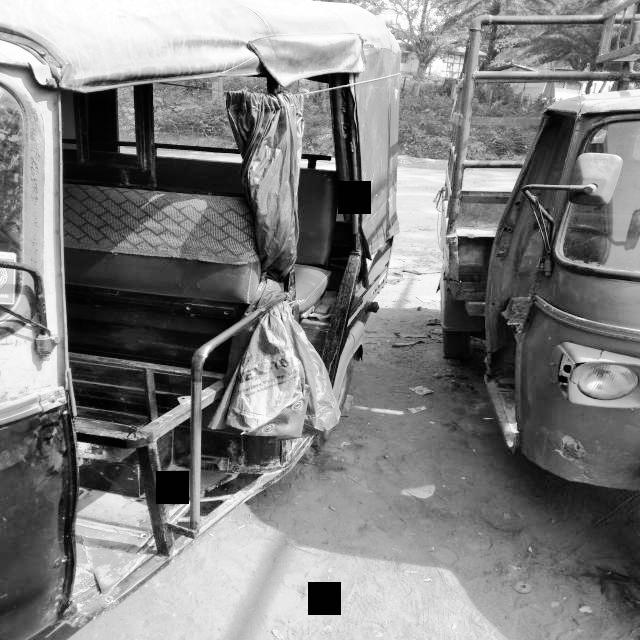Auto-Rickshaw: (0, 0, 416, 636), (451, 13, 640, 494)
